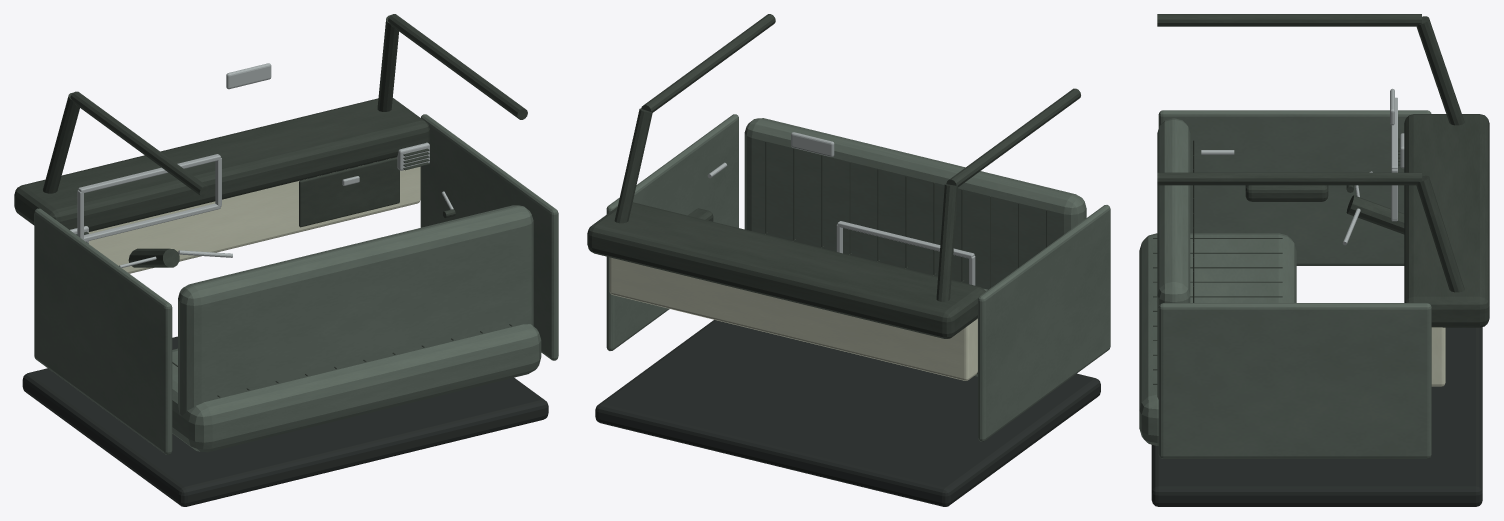
File: SM_Saro07_Cabin.fbx
The picture shows the model from 3 angles, left to right: view 1: azimuth 30°, elevation 25°; view 2: azimuth 150°, elevation 25°; view 3: azimuth 270°, elevation 25°; orthographic projection. The views are drawn at different scales.
Parts seen in each view (by area): view 1: SM_Saro07_Cabin; view 2: SM_Saro07_Cabin; view 3: SM_Saro07_Cabin.
Boxes of the visible parts, x1,y1,x2,y2 form: SM_Saro07_Cabin: [14, 14, 558, 506]; SM_Saro07_Cabin: [587, 14, 1110, 506]; SM_Saro07_Cabin: [1139, 14, 1489, 506].
Bounding box in the file's own units: 169 × 127 × 129.
